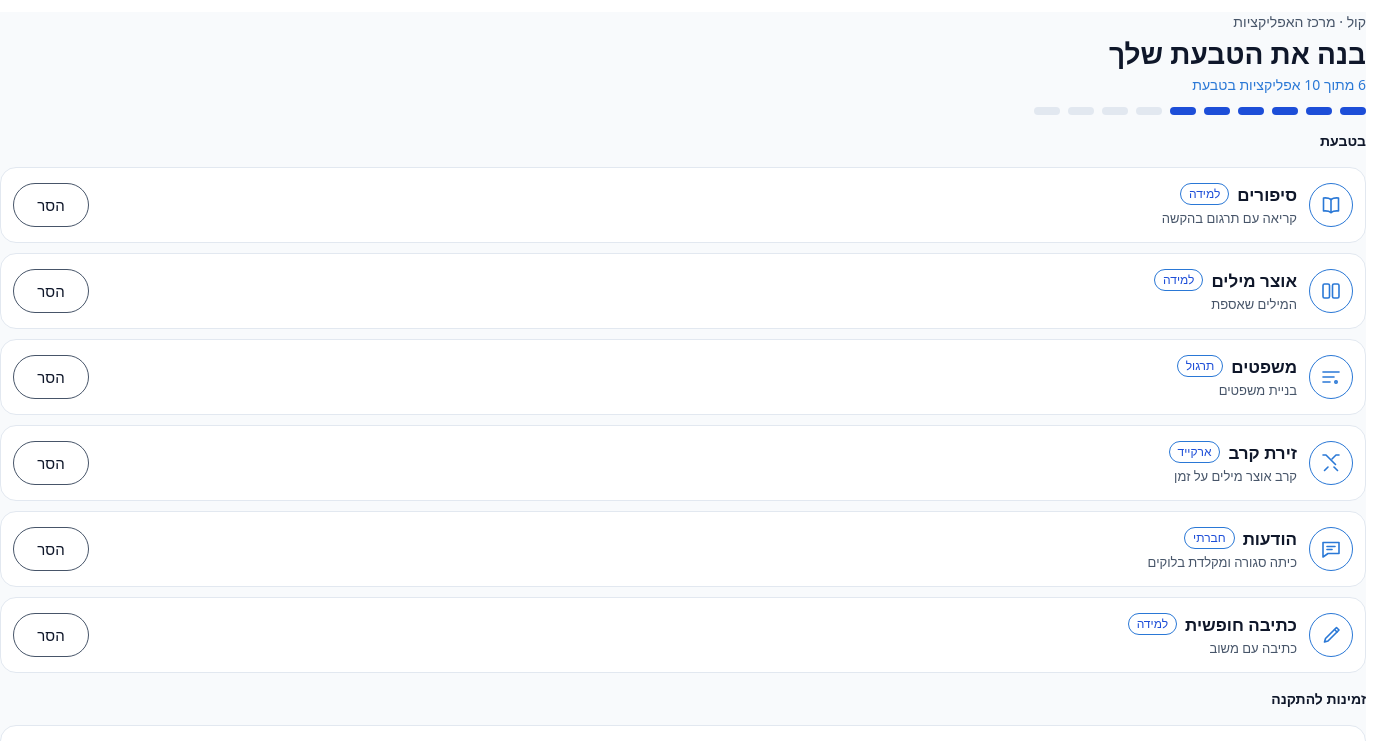
it: AppCentre — live (T-503ⓒ) › «הסר» removes and writes, ⛔ without a confirm
The width and height of the screenshot is (1378, 741).
What coordinates should you click on to do the following:
click the button "הסר" in the row of "סיפורים"
I would click on:
 (51, 205)
Its box is [13, 183, 89, 227].
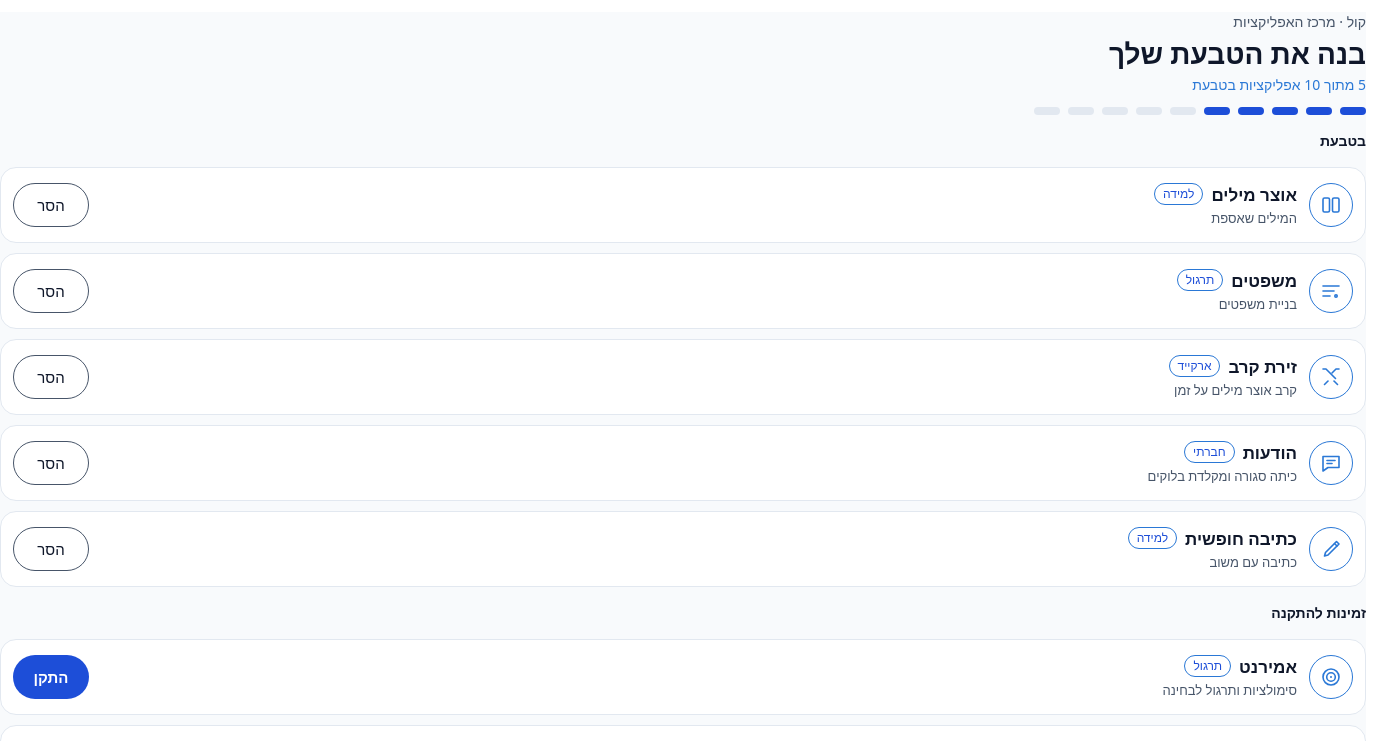
Now the text "5 מתוך 10 אפליקציות בטבעת" is shown, box [1192, 75, 1366, 94]
